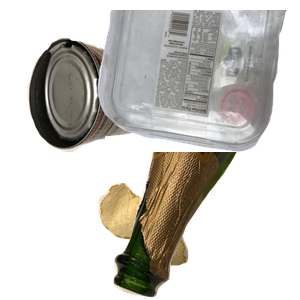glass: (111, 152, 300, 300)
metal: (25, 35, 189, 180)
plastic: (95, 10, 300, 154)
trash: (96, 181, 277, 300)
